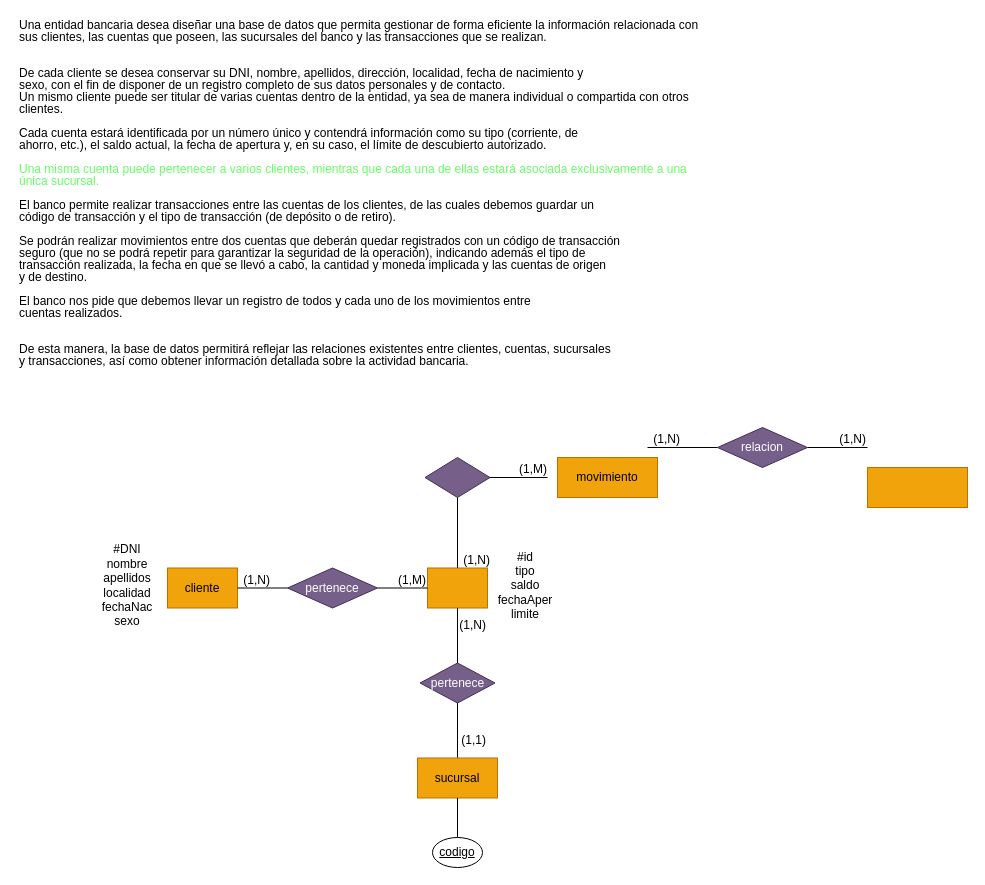
The diagram is 985 pixels wide and 885 high, and some of its shapes have lost their labels. The shapes that lost their labels are listed below. From the top down, each one's centre as x and y in pixels, then its label:
the point at 457,477: realiza
the point at 917,487: transaccion
the point at 457,587: cuenta
